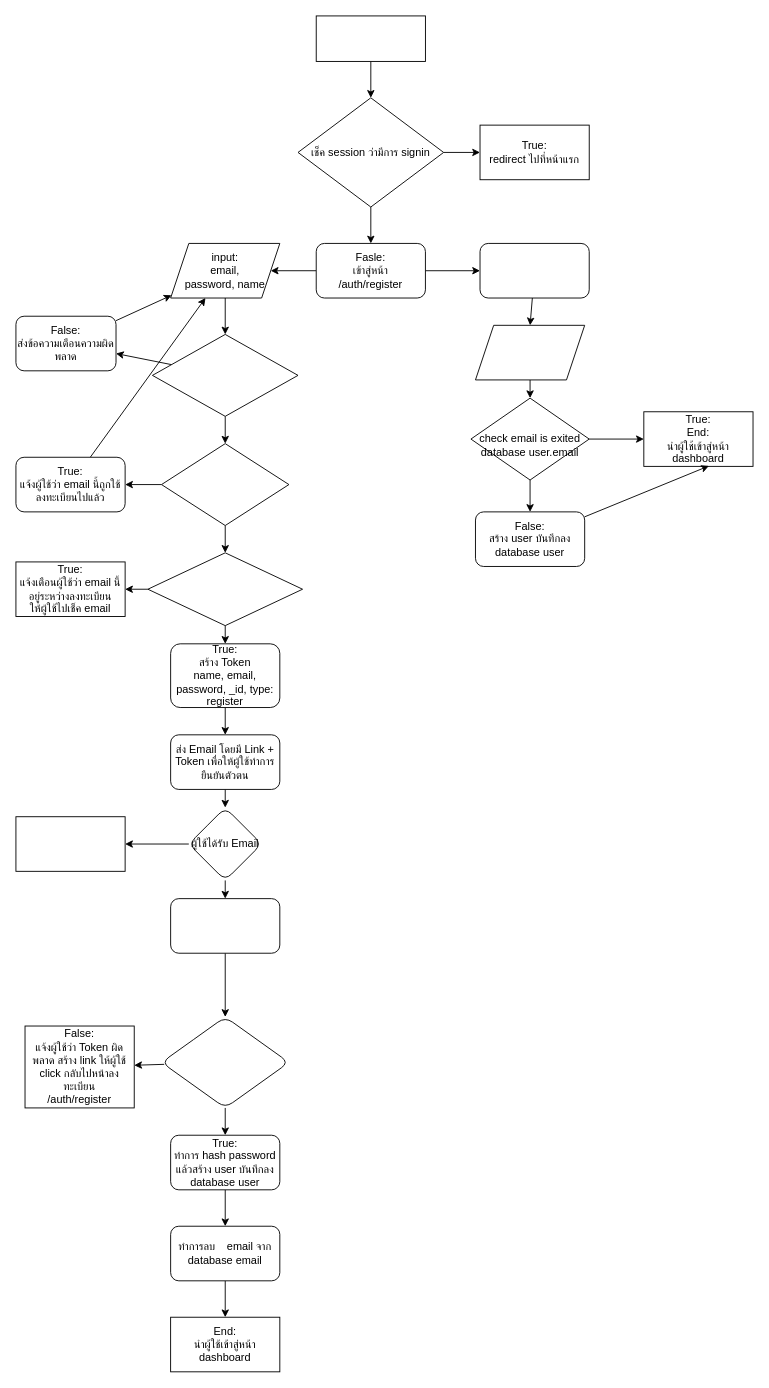
Image size: 769x1388. Some labels were removed from this diagram. The shapes that lost their labels are listed below. From the top down, each one's box as (x1, y1, x2, y2) in pixels, then its label:
(315, 15, 425, 61): Start: ระบบลงทะเบียน /auth/register
(479, 243, 589, 298): ลงทะเบียนโดยใช้ google, facebook, line, etc..
(475, 324, 585, 380): รับค่า user จาก provider
(152, 334, 298, 416): validate data controller/user/register
(161, 443, 289, 526): True: check email is exited database user.email
(147, 552, 303, 626): False: check email is exited database email.email
(15, 816, 125, 871): False: ทำการตรวจสอบระบบจัดส่ง Email
(170, 898, 280, 953): True: ผู้ใช้ทำการ click link verify นำผู้ใช้มาที่ /auth/register/....token
(161, 1016, 289, 1108): ทำการตรวจเช็ค Token controller/user/ verifyRegister
